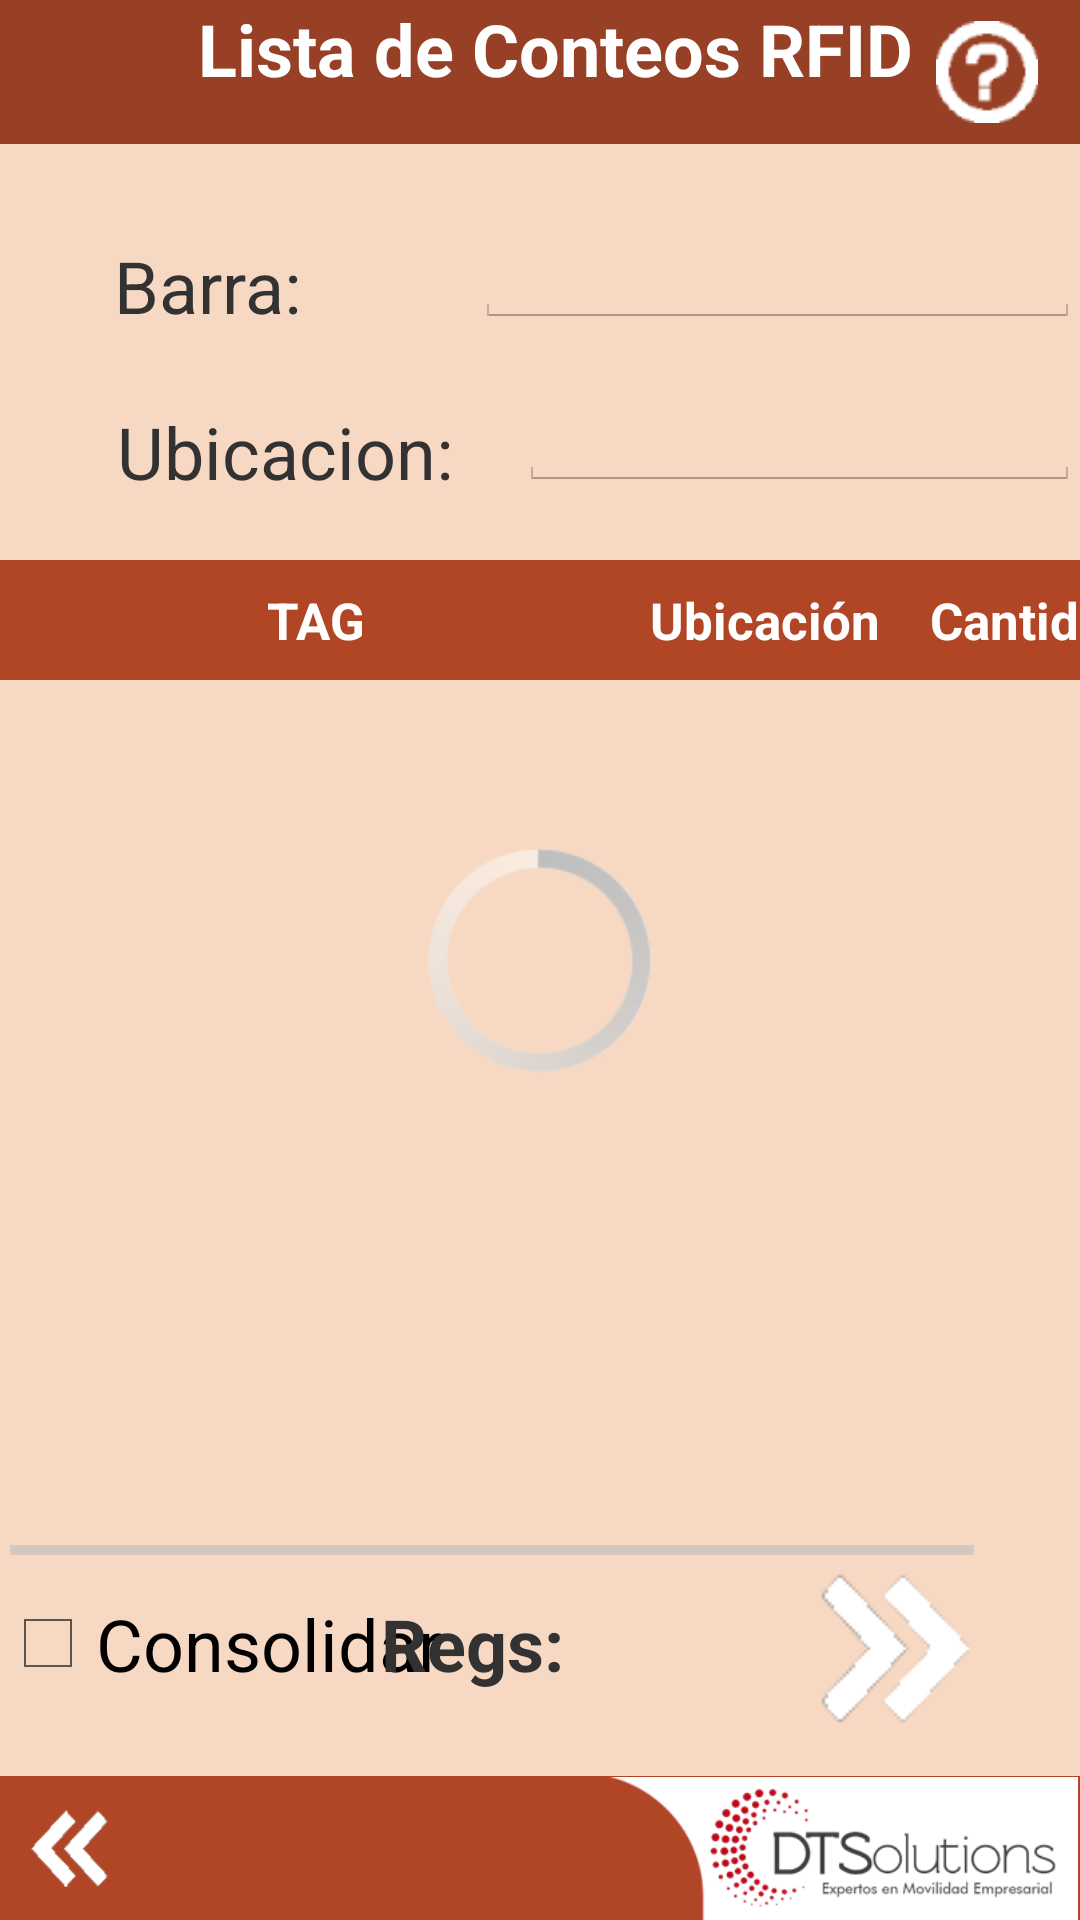

Where to tap for icons on this 1080*1920 app screen, as (x=x, y=y):
arr next: (x=895, y=1648)
arr prev: (x=69, y=1848)
help: (x=987, y=72)
